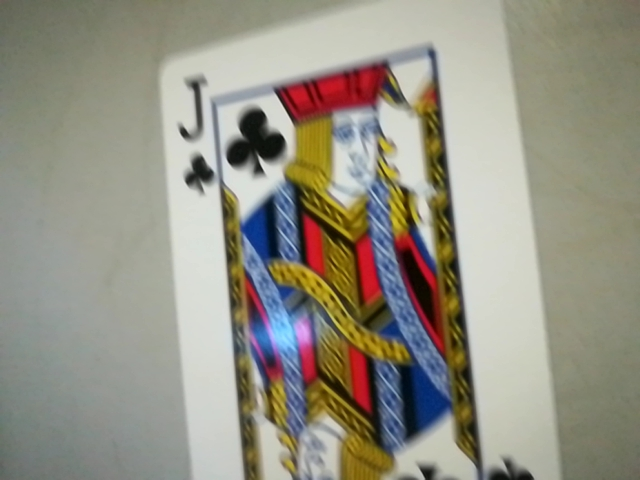mh j: (169, 65, 224, 196)
